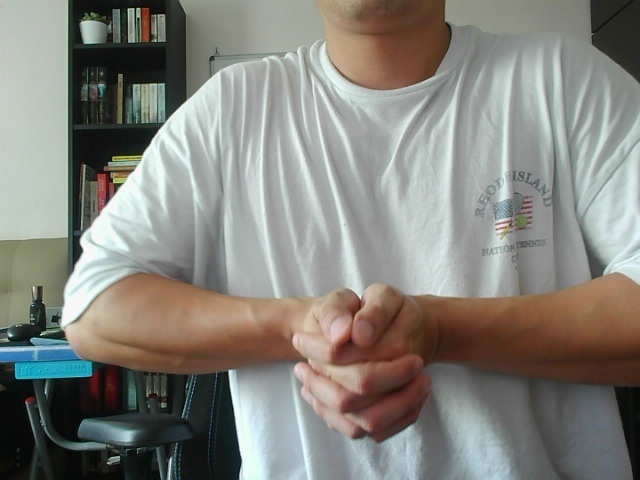Boar: (269, 255, 463, 449)
